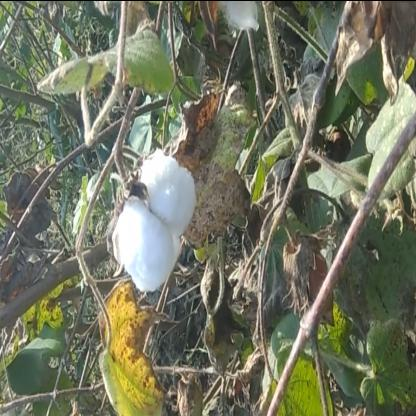cotton_ready: (106, 140, 206, 294)
